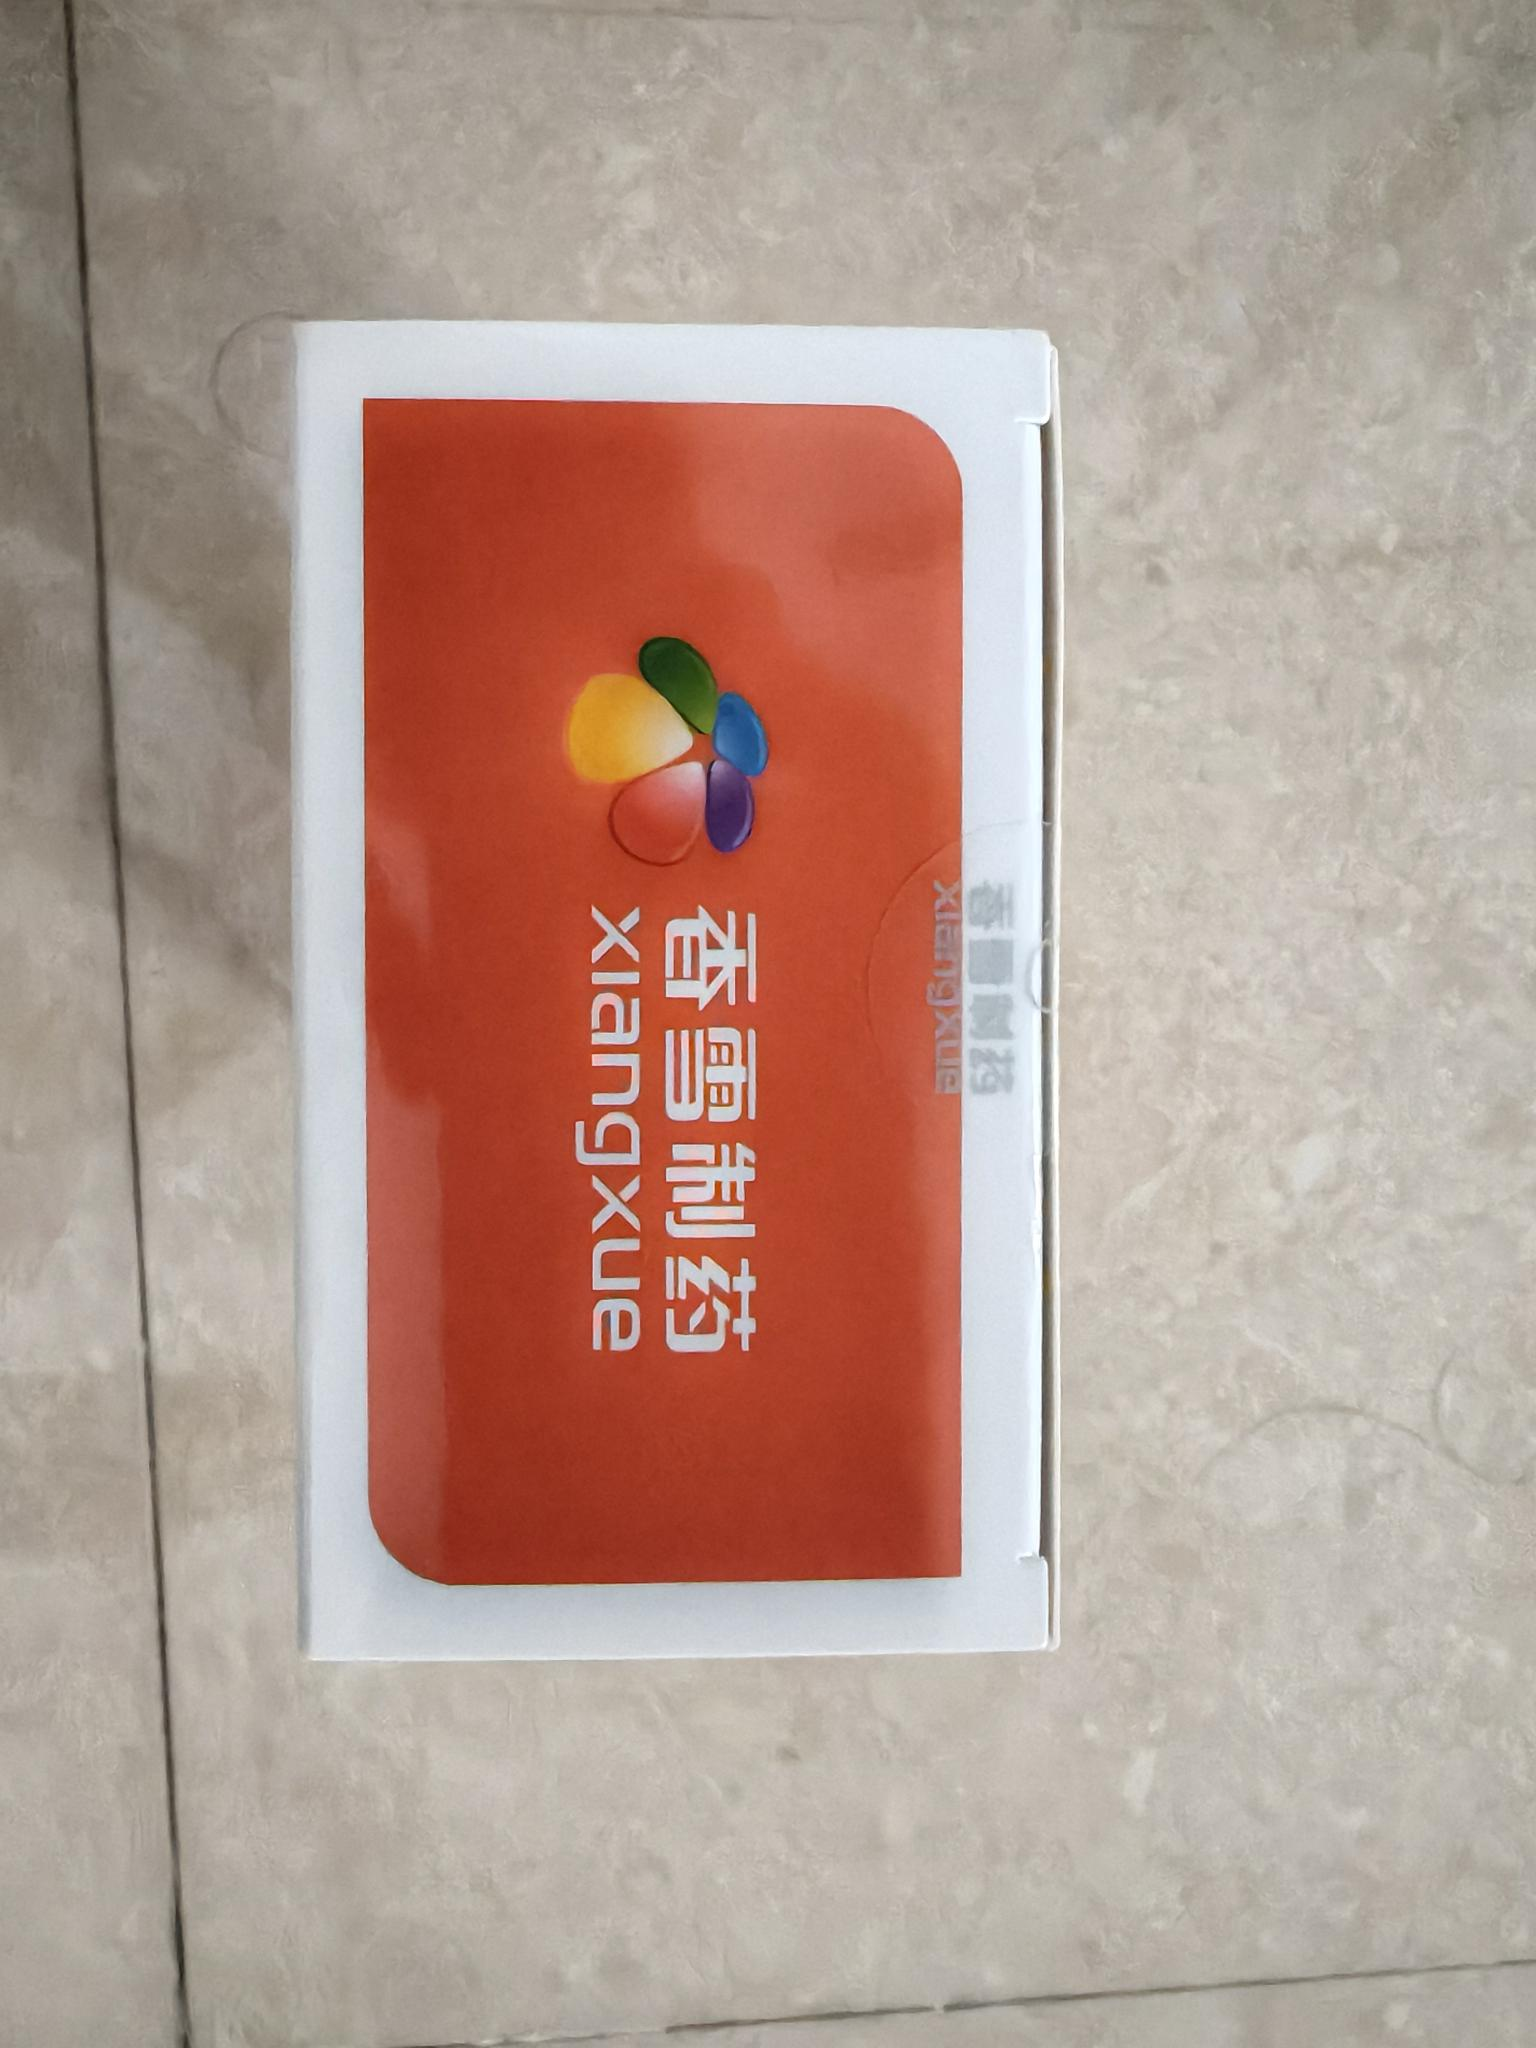Medicine1: (253, 271, 1142, 1748)
